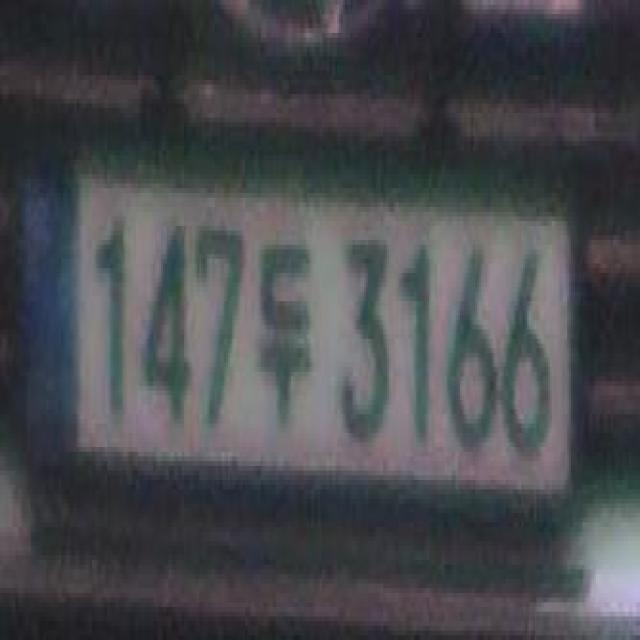illegal_plate: (3, 100, 587, 546)
